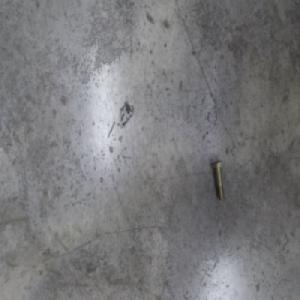Bolt: (208, 157, 222, 200)
